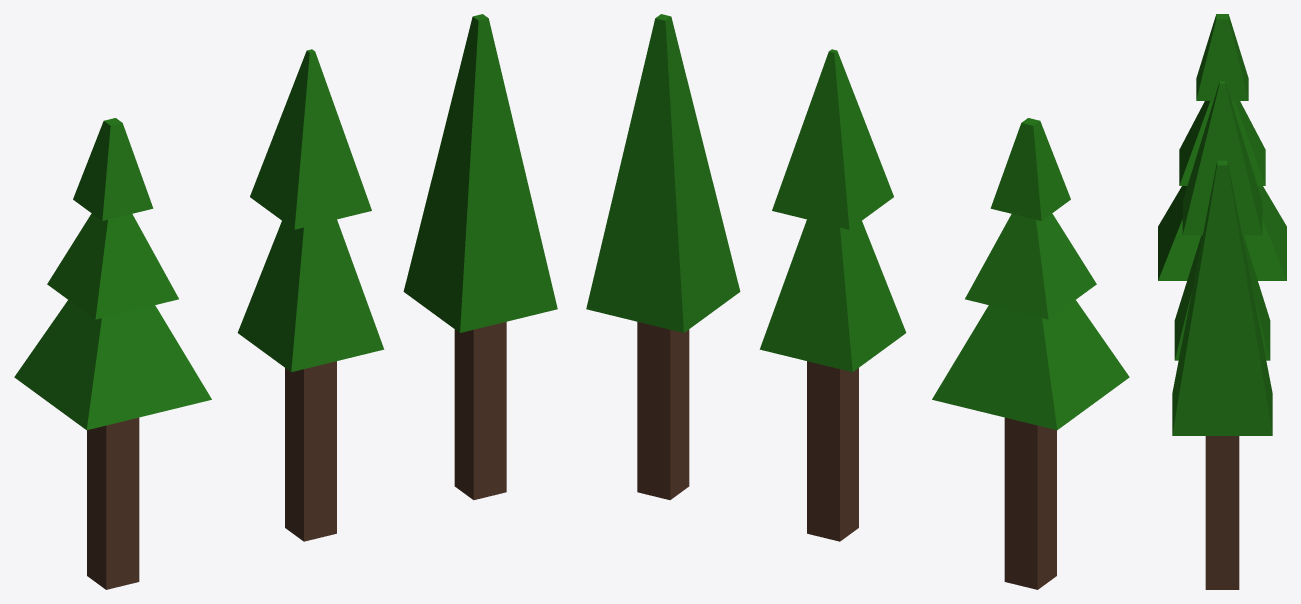
File: threes.fbx
3 views of the same model, side by side, from view 1: azimuth 30°, elevation 25°; view 2: azimuth 150°, elevation 25°; view 3: azimuth 270°, elevation 25° (orthographic). The views are drawn at different scales.
Visible parts, largest first — view 1: Three1, Three3, Three2; view 2: Three1, Three3, Three2; view 3: Three3, Three1, Three2.
Boxes of the visible parts, x1,y1,x2,y2 form: Three1: (14, 118, 211, 589); Three3: (403, 14, 557, 499); Three2: (237, 49, 384, 541); Three1: (932, 118, 1129, 589); Three3: (586, 14, 740, 499); Three2: (759, 49, 906, 541); Three3: (1172, 160, 1272, 589); Three1: (1158, 14, 1286, 280); Three2: (1174, 81, 1270, 360).
Size of the model in its own units: 2901 by 2775 by 760.
